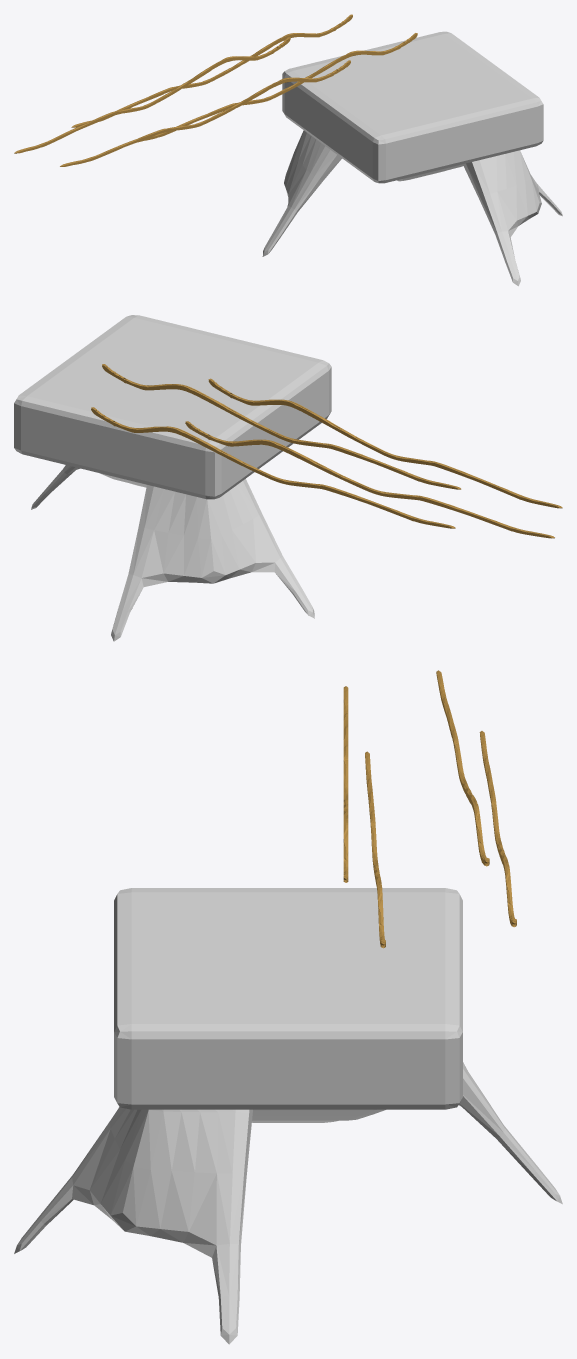
The model's file is drones.glb.
3 views of the same model, one above another, from view 1: azimuth 30°, elevation 25°; view 2: azimuth 150°, elevation 25°; view 3: azimuth 270°, elevation 25° (orthographic). The views are drawn at different scales.
Parts seen in each view (by area): view 1: pCube2, planarTrimmedSurface3, planarTrimmedSurface6, planarTrimmedSurface4, planarTrimmedSurface5; view 2: pCube2, planarTrimmedSurface6, planarTrimmedSurface5, planarTrimmedSurface4, planarTrimmedSurface3; view 3: pCube2, planarTrimmedSurface6, planarTrimmedSurface5, planarTrimmedSurface3, planarTrimmedSurface4.
Part boxes in pixels (bbox=[...]): pCube2: bbox=[262, 31, 562, 286]; planarTrimmedSurface3: bbox=[60, 60, 350, 166]; planarTrimmedSurface6: bbox=[14, 37, 290, 153]; planarTrimmedSurface4: bbox=[138, 33, 417, 142]; planarTrimmedSurface5: bbox=[71, 14, 352, 127]; pCube2: bbox=[14, 315, 331, 641]; planarTrimmedSurface6: bbox=[185, 421, 554, 538]; planarTrimmedSurface5: bbox=[91, 407, 455, 528]; planarTrimmedSurface4: bbox=[102, 364, 461, 489]; planarTrimmedSurface3: bbox=[208, 378, 562, 508]; pCube2: bbox=[14, 888, 562, 1344]; planarTrimmedSurface6: bbox=[436, 670, 489, 866]; planarTrimmedSurface5: bbox=[479, 731, 516, 927]; planarTrimmedSurface3: bbox=[343, 686, 348, 882]; planarTrimmedSurface4: bbox=[365, 751, 385, 948].
Size of the model in its own units: 8.68 by 2.99 by 4.73.
